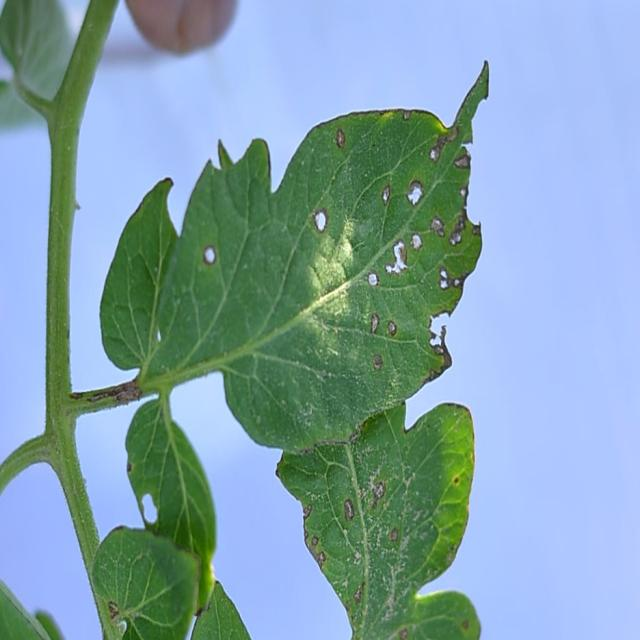infected: (189, 109, 504, 382), (294, 475, 472, 638), (99, 591, 212, 640), (136, 485, 168, 537)
